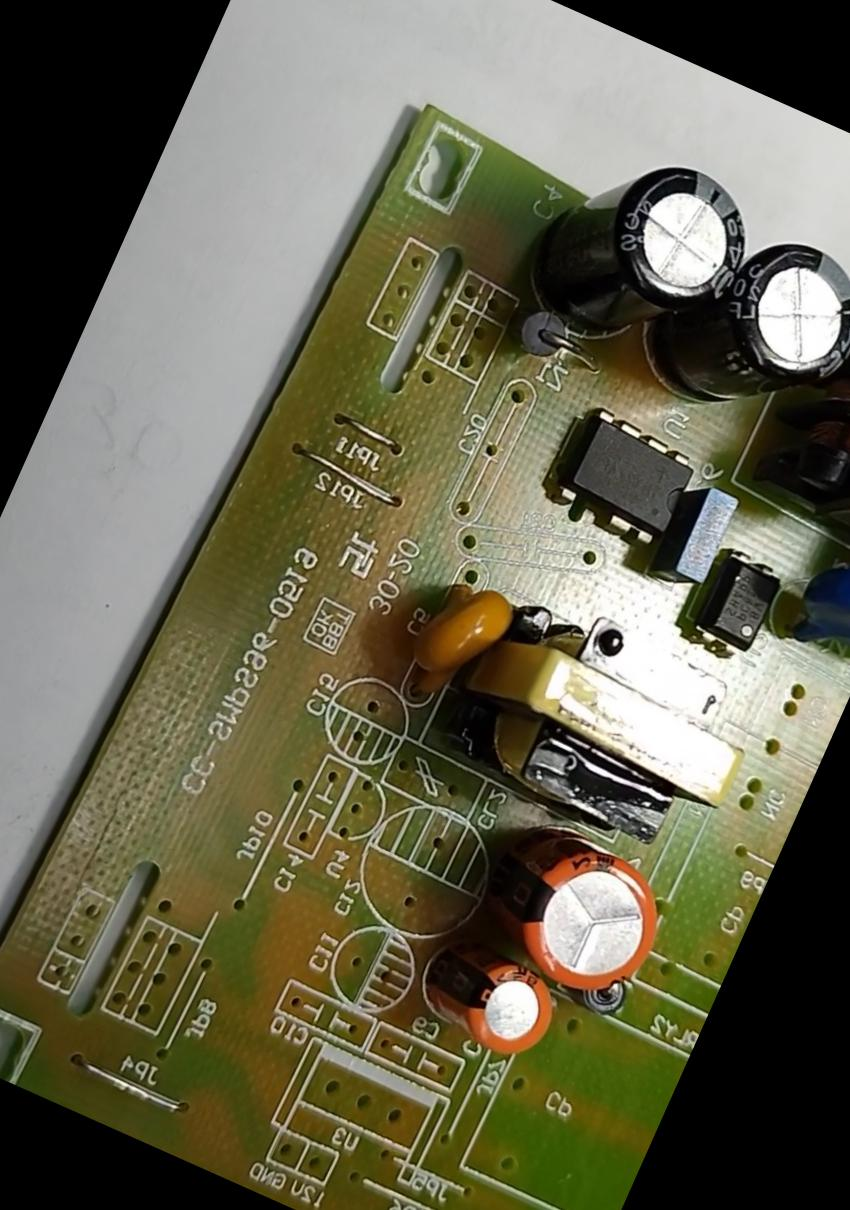Cap1: (468, 814, 680, 1008)
Cap2: (414, 933, 568, 1063)
Cap3: (660, 207, 849, 458)
Cap4: (518, 125, 768, 379)
MOSFET: (549, 406, 705, 552)
Mov: (773, 537, 849, 672)
Transformer: (434, 579, 779, 877), (790, 297, 849, 553)
